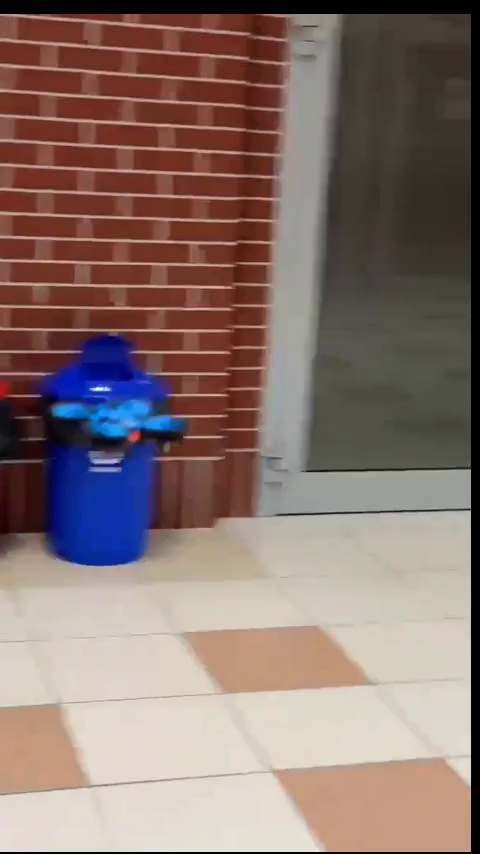drone: (50, 400, 186, 458)
